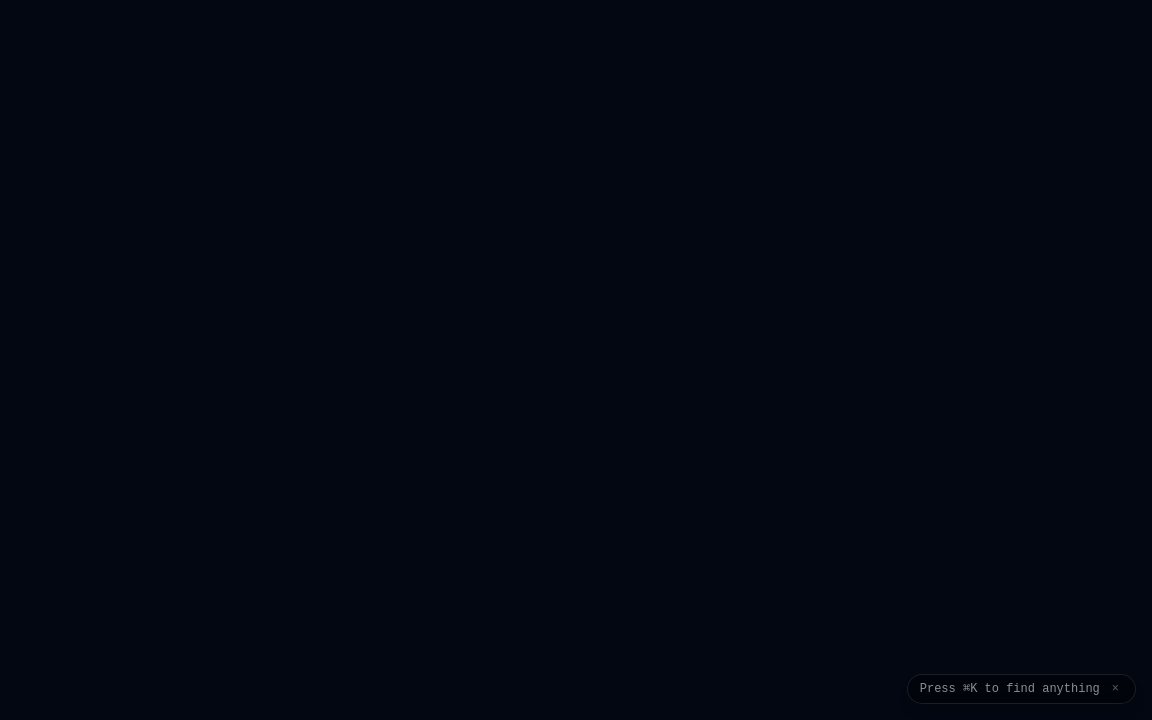
Scenario: CommandPalette › renders an empty state for no search matches
This screenshot has width=1152, height=720.
Press k
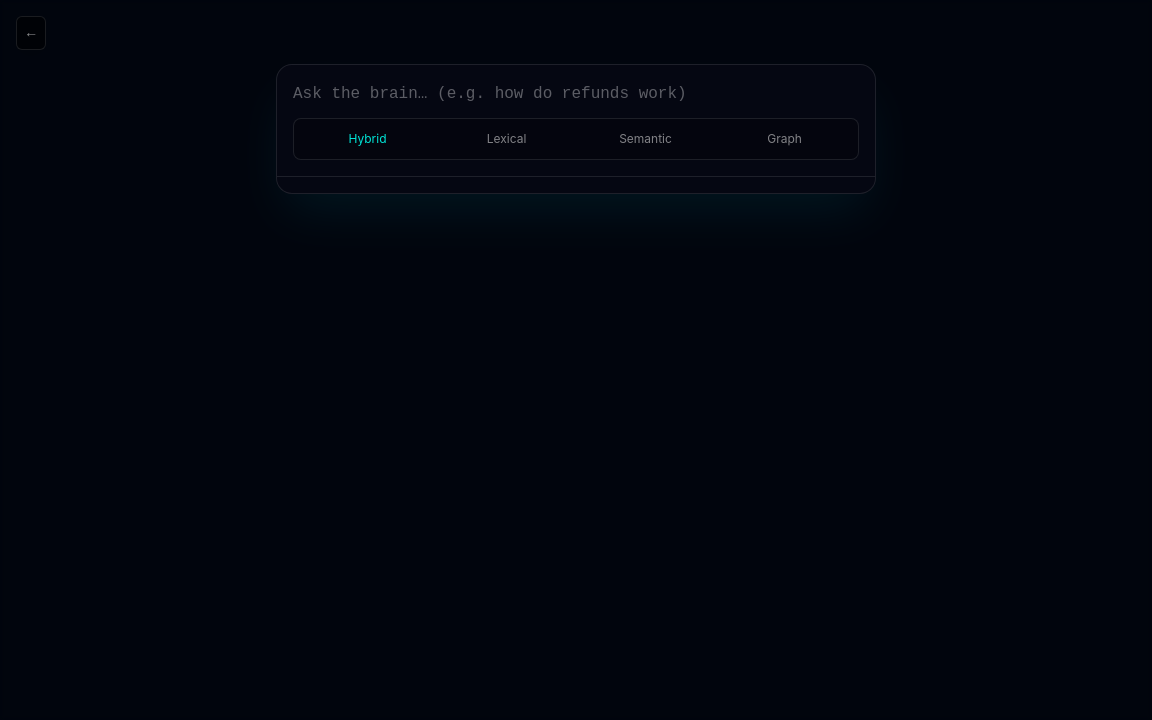
Type "missing" into the field with placeholder "Ask the brain… (e.g. how do refunds work)" at (576, 94), box 293,82 -> 859,106
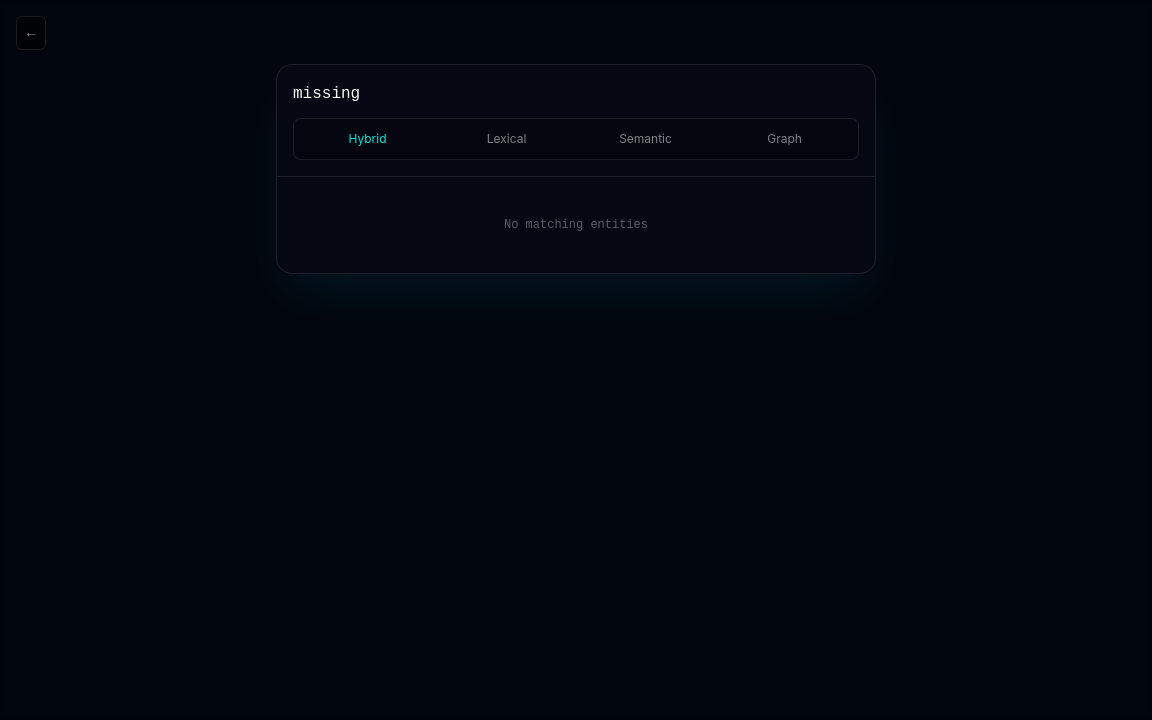
Check: the text "No matching entities" is shown, box 504,218 -> 648,232
